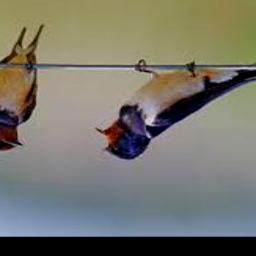Swallow: (91, 49, 256, 161), (0, 24, 42, 154)
